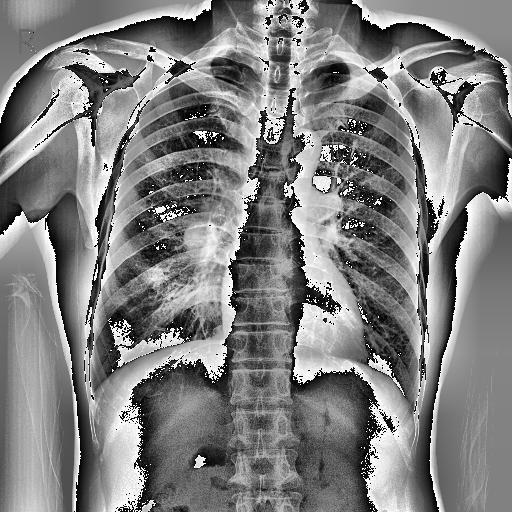8- Nodule-Mass: (182, 222, 220, 247), (184, 220, 215, 246), (184, 222, 212, 248)
